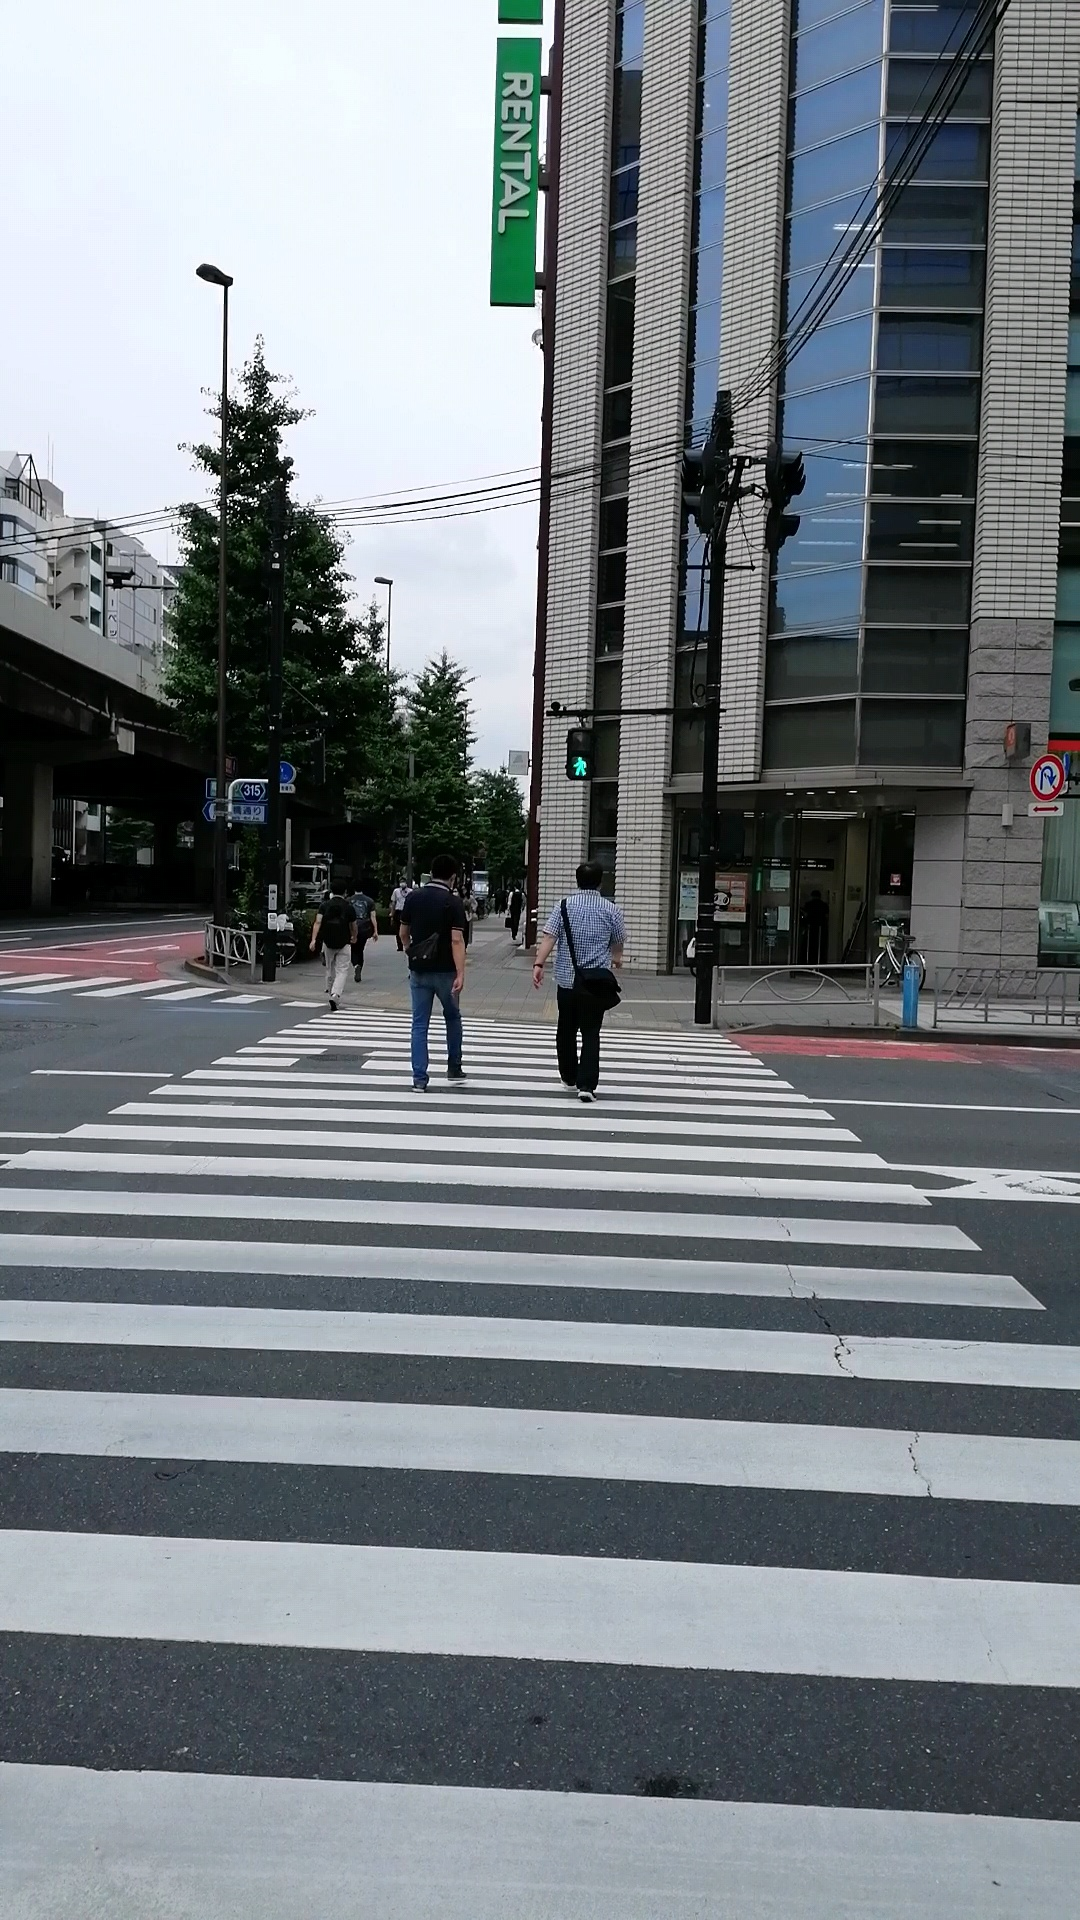green: (564, 729, 595, 781)
